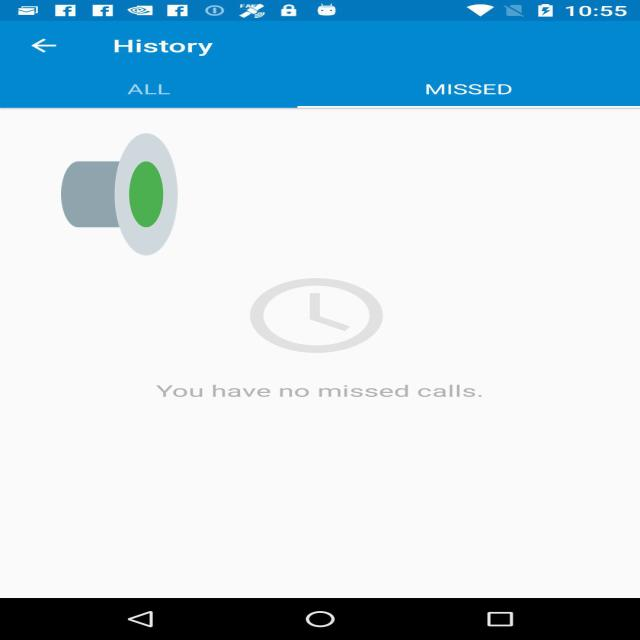social proof: (61, 81, 178, 308)
